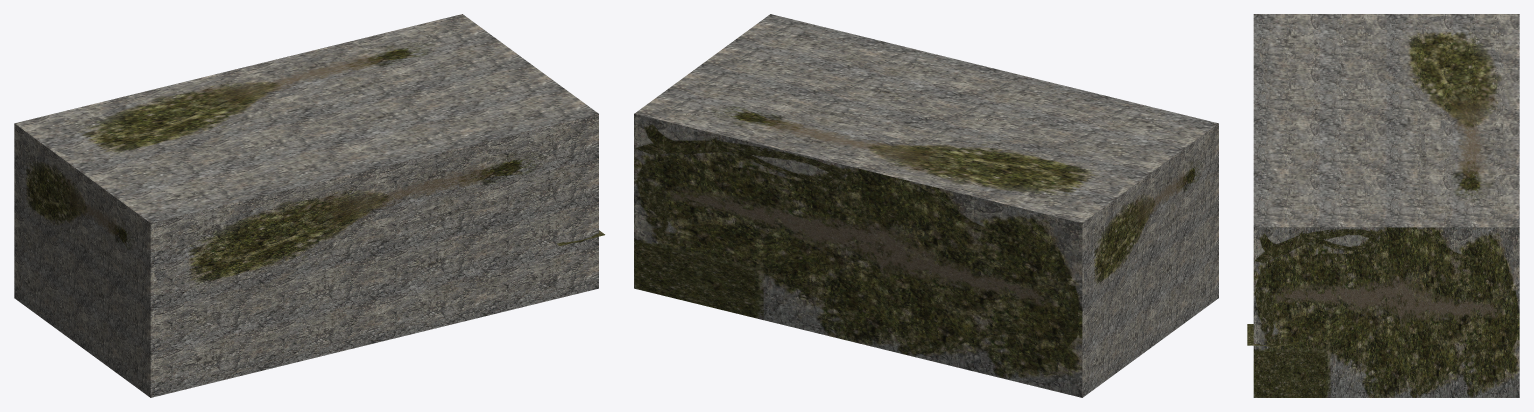
File: underwater_cave.DAE
3 views of the same model, side by side, from view 1: azimuth 30°, elevation 25°; view 2: azimuth 150°, elevation 25°; view 3: azimuth 270°, elevation 25° (orthographic). The views are drawn at different scales.
Parts seen in each view (by area): view 1: bounds; view 2: bounds; view 3: bounds.
Boxes of the visible parts, <box> form: bounds: <box>14,14,598,397</box>; bounds: <box>634,14,1218,397</box>; bounds: <box>1253,14,1519,397</box>.
Bounding box in the file's own units: 126 × 67.33 × 46.48.
